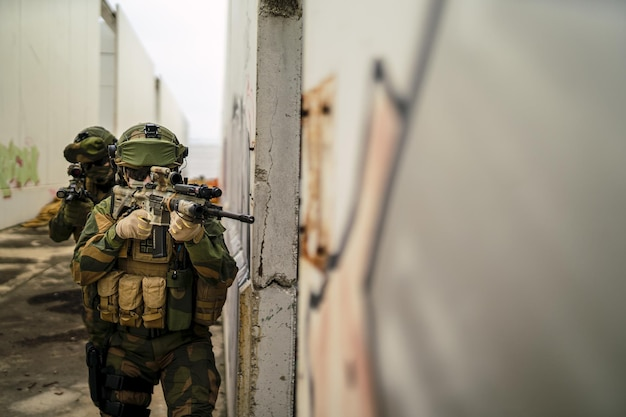gun: (112, 164, 256, 258), (56, 160, 95, 203)
